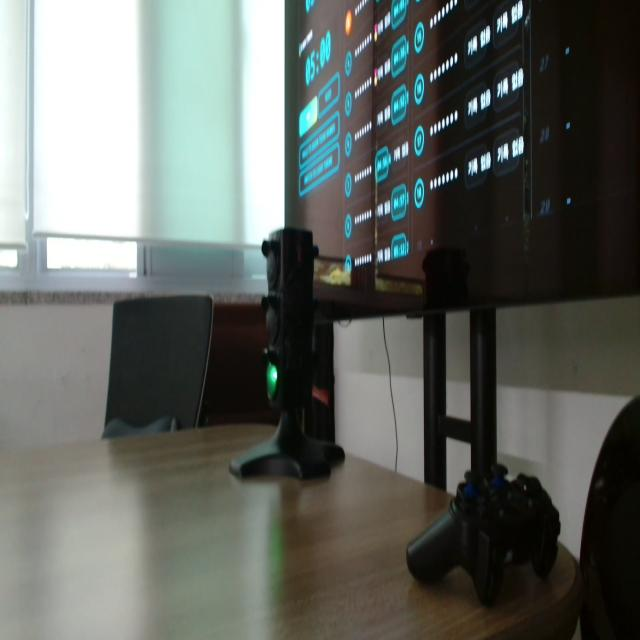green_light: (267, 363, 278, 399)
